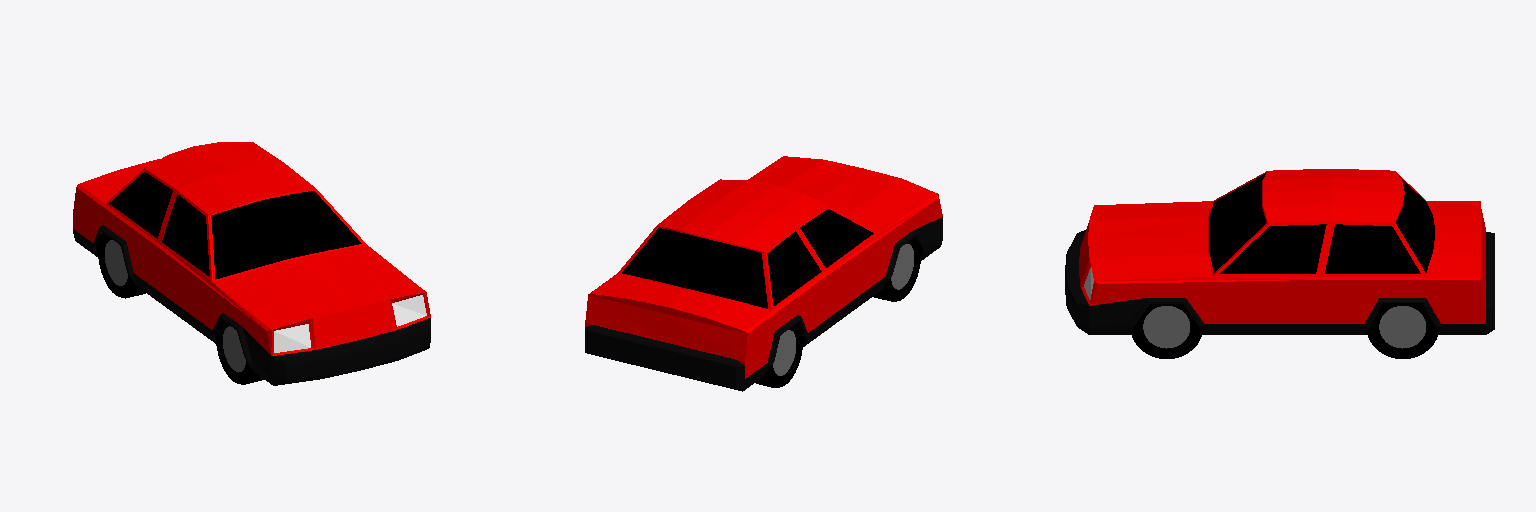
Rendered from carMaya.obj.
3 views of the same model, side by side, from view 1: azimuth 30°, elevation 25°; view 2: azimuth 150°, elevation 25°; view 3: azimuth 270°, elevation 25° (orthographic).
Parts seen in each view (by area): view 1: Car:Mesh; view 2: Car:Mesh; view 3: Car:Mesh.
Part boxes in pixels (x1,y1,x2,y2): Car:Mesh: (73, 142, 430, 385); Car:Mesh: (585, 156, 942, 391); Car:Mesh: (1065, 169, 1494, 358).
Bounding box in the file's own units: 40.33 × 30.54 × 89.6.